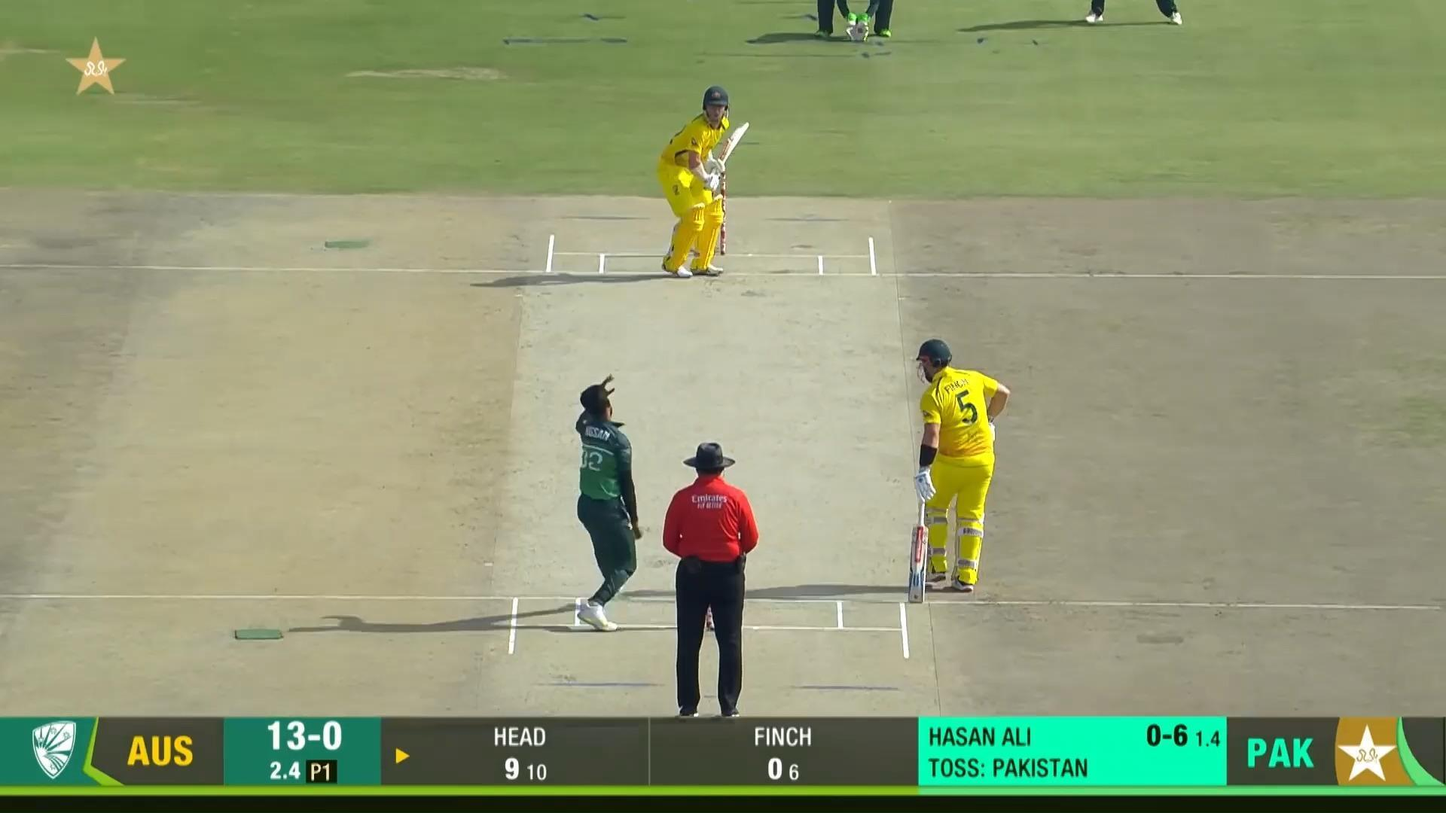BM 1: (656, 85, 750, 279)
BO: (575, 373, 644, 633)
